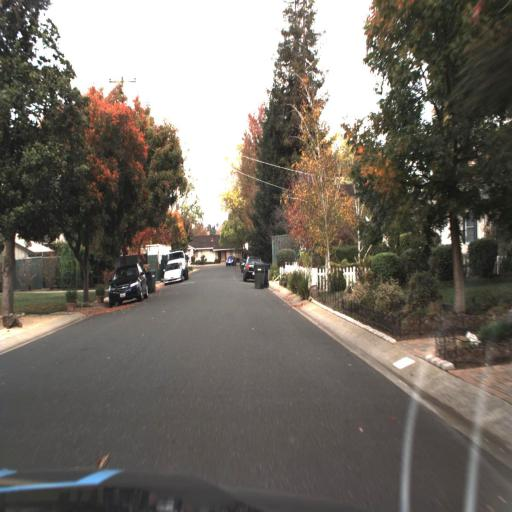car: (105, 256, 151, 310), (105, 261, 148, 305), (160, 262, 186, 287), (241, 254, 264, 282), (166, 248, 185, 268), (225, 255, 236, 268)
